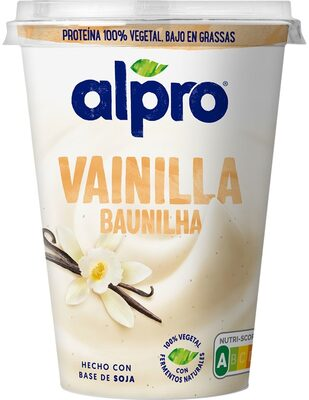ALPRO vanille: (15, 20, 294, 380)
